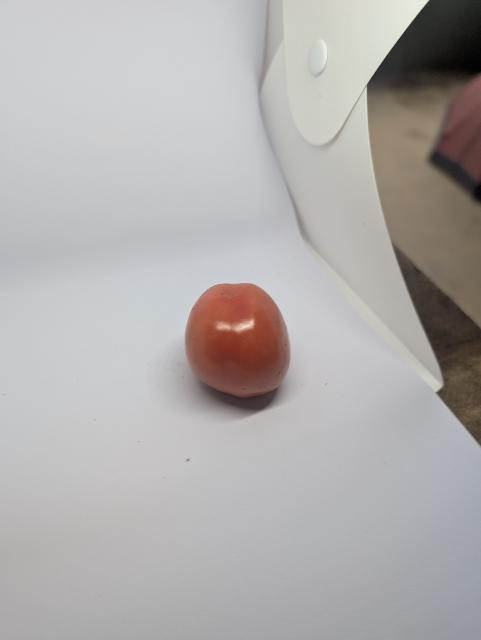red: (174, 270, 312, 415)
